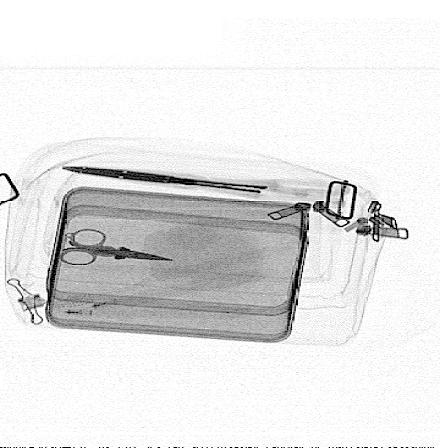Scissors: (63, 165, 350, 209), (57, 228, 178, 266)
